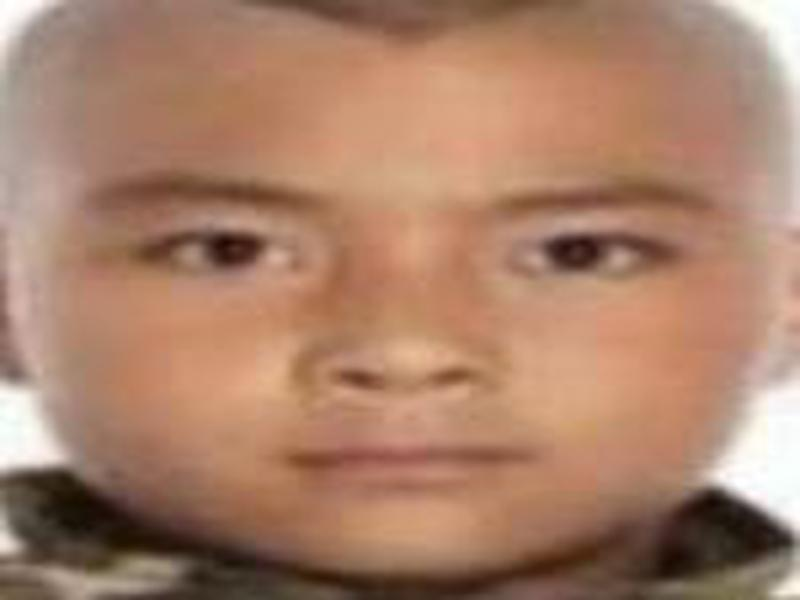without_mask: (9, 53, 773, 587)
